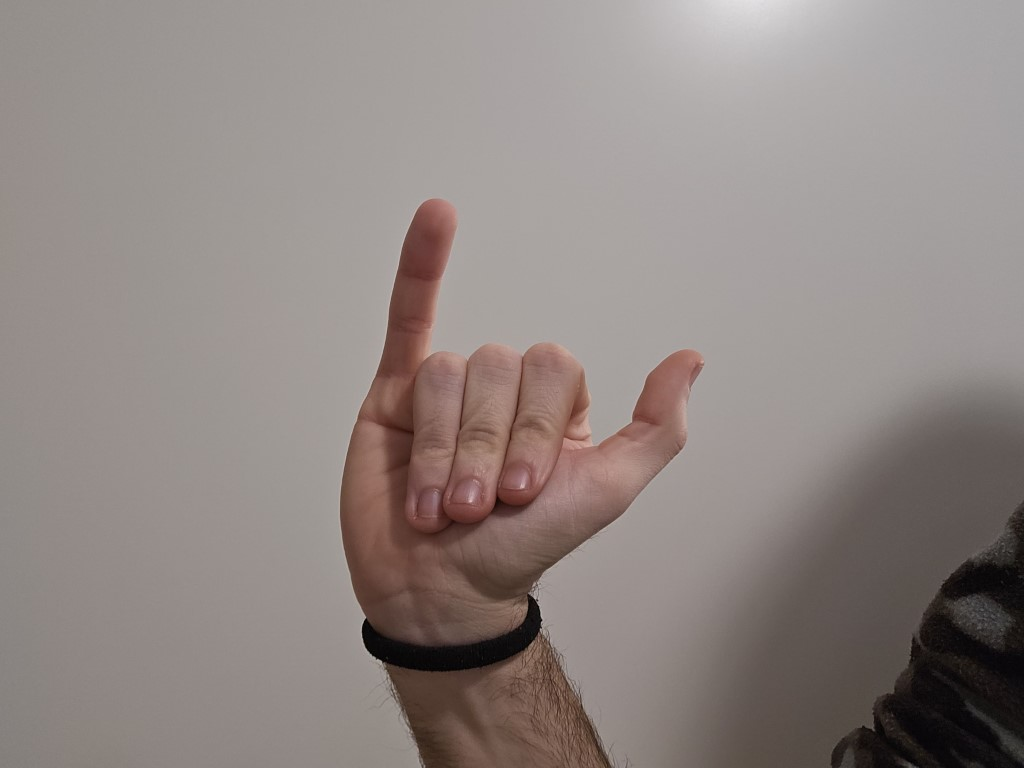y: (307, 188, 732, 637)
